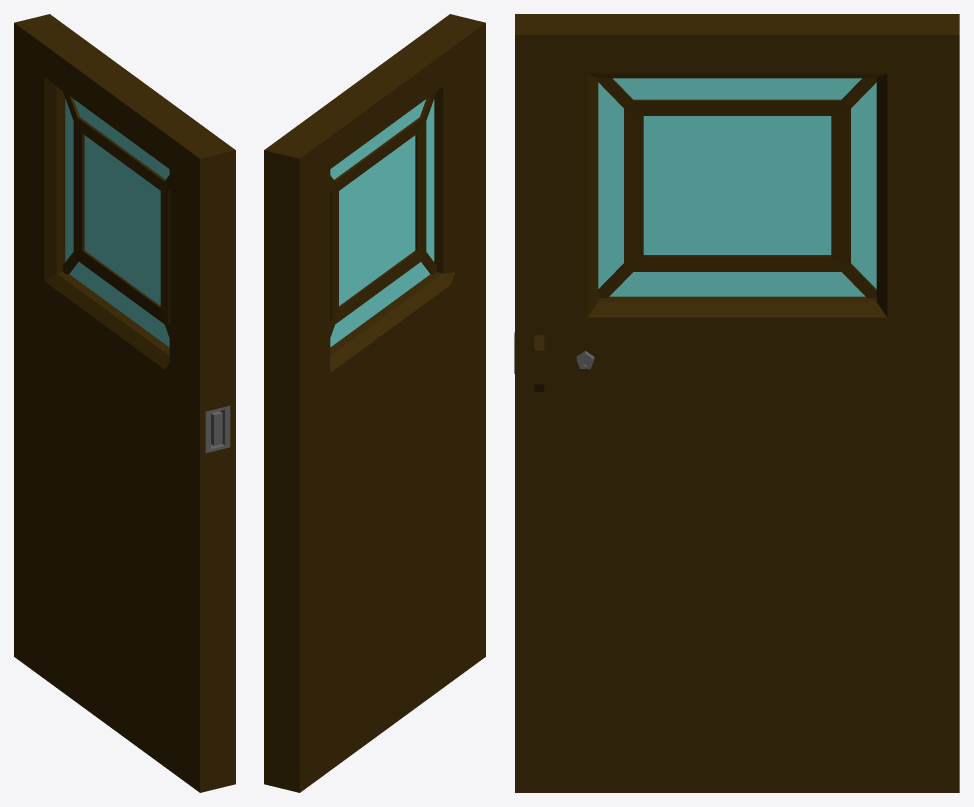
Rendered from Door.fbx.
3 views of the same model, side by side, from view 1: azimuth 30°, elevation 25°; view 2: azimuth 150°, elevation 25°; view 3: azimuth 270°, elevation 25° (orthographic). The views are drawn at different scales.
Parts seen in each view (by area): view 1: Door; view 2: Door; view 3: Door.
Boxes of the visible parts, left/top/right/bottom form: Door: left=14, top=14, right=235, bottom=792; Door: left=264, top=14, right=485, bottom=792; Door: left=514, top=14, right=959, bottom=792.
Size of the model in its own units: 19.73 by 281 by 150.
